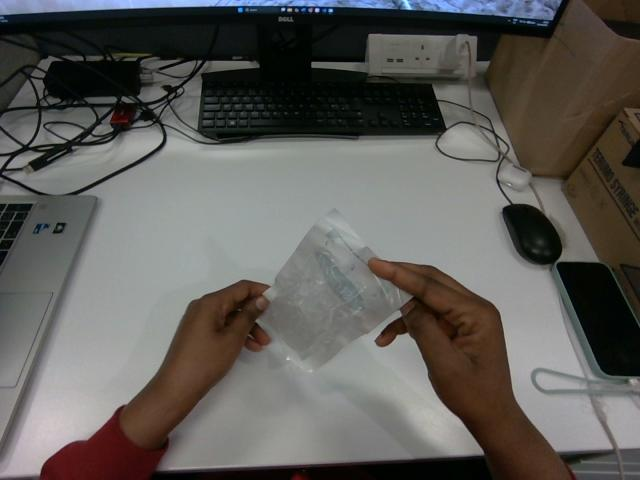gallipot: (261, 209, 410, 371)
